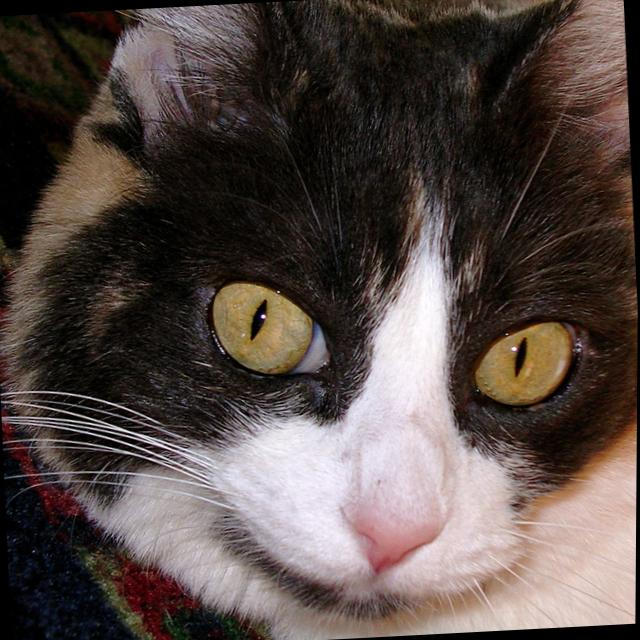animals: (99, 0, 640, 574)
